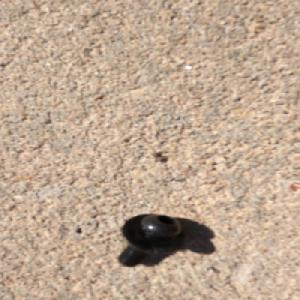BoltWasher: (116, 211, 189, 267)
